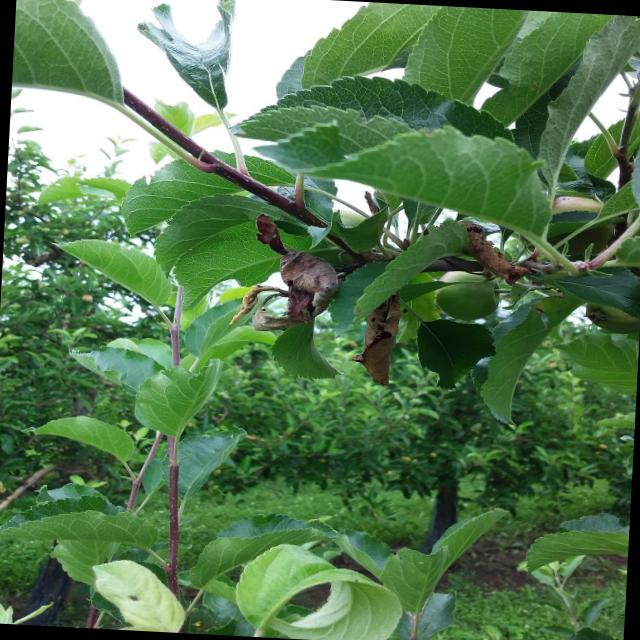-FireBlight-: (232, 214, 356, 352), (352, 283, 406, 379), (463, 218, 526, 281)
